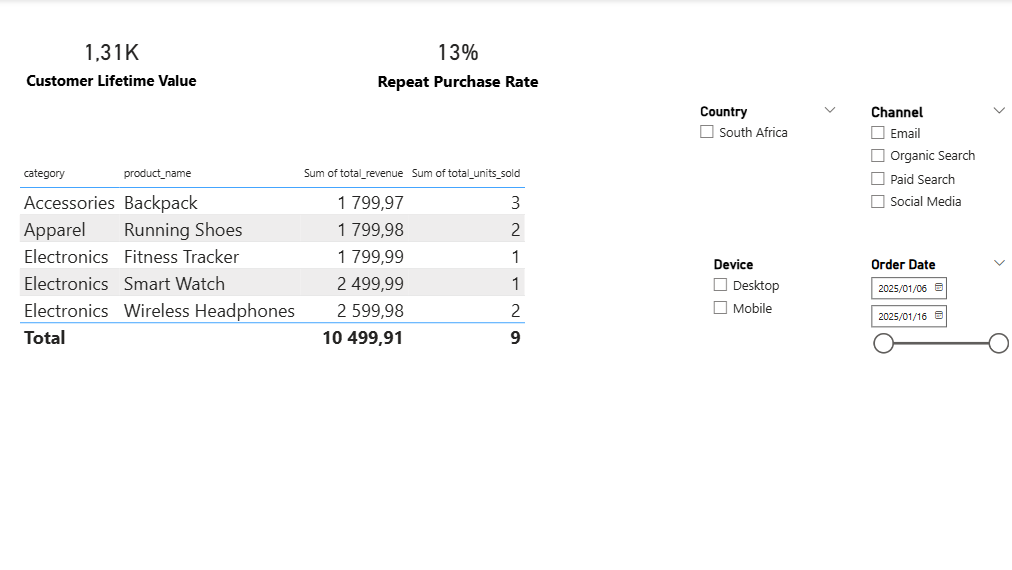

This screenshot's page, from the dashboard's own definition file:
{"tool":"powerbi","page":{"name":"Customer & Product Insight","canvas":[1280,720],"ordinal":3},"visuals":[{"type":"card","fields":{"Values":["Measures (2).Customer Lifetime Value"]},"box":[0,0,279.7,155],"z":0},{"type":"card","fields":{"Values":["Measures (2).Repeat Purchase Rate"]},"box":[436.5,0,279.7,155],"z":1000},{"type":"tableEx","fields":{"Values":["vw_product_performance.category","vw_product_performance.product_name","Sum(vw_product_performance.total_revenue)","Sum(vw_product_performance.total_units_sold)"]},"box":[18.9,204.1,895.8,466.8],"z":2000},{"type":"slicer","fields":{"Values":["sessions.device"]},"box":[886.3,319.4,194.6,155],"z":2001},{"type":"slicer","fields":{"Values":["orders.order_date"]},"box":[1084.7,319.4,194.6,155],"z":2002},{"type":"slicer","fields":{"Values":["users.country"]},"box":[869.3,126.6,196.5,155],"z":2003},{"type":"slicer","fields":{"Values":["sessions.channel"]},"box":[1084.7,126.6,194.6,155],"z":2004}]}

Visuals, with their boxes in screenshot pixels (x1, y1, x2, y2), scaled from the page's 1280x720 canvas onto the 1012x570 screenshot:
card - Measures (2).Customer Lifetime Value: region(0, 0, 221, 123)
card - Measures (2).Repeat Purchase Rate: region(345, 0, 566, 123)
tableEx - vw_product_performance.category x vw_product_performance.product_name: region(15, 162, 723, 531)
slicer - sessions.device: region(701, 253, 855, 376)
slicer - orders.order_date: region(858, 253, 1011, 376)
slicer - users.country: region(687, 100, 843, 223)
slicer - sessions.channel: region(858, 100, 1011, 223)
